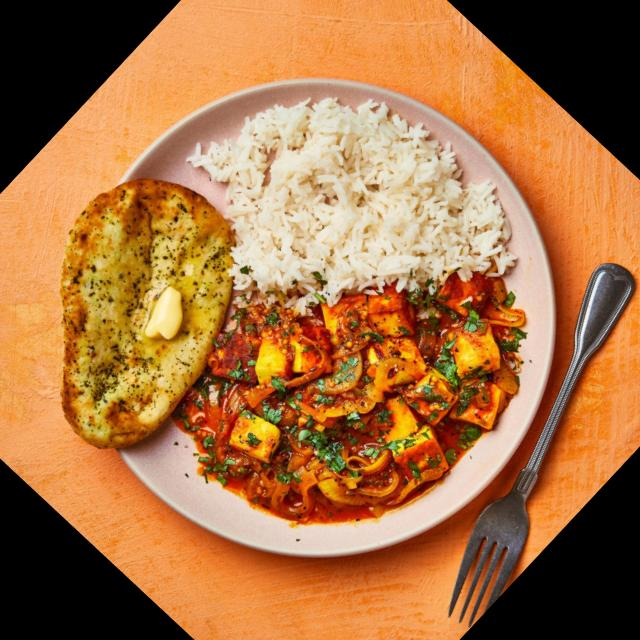rice: (193, 91, 508, 290)
